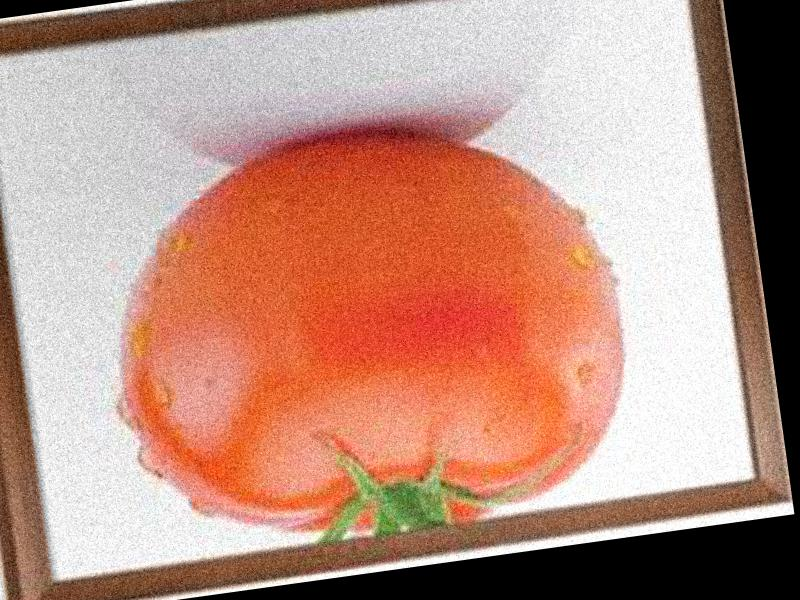Tomato: (91, 101, 644, 569)
